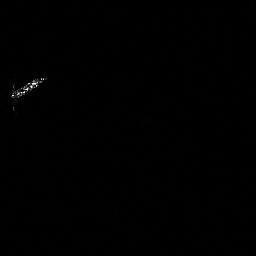ship: (6, 72, 50, 103)
